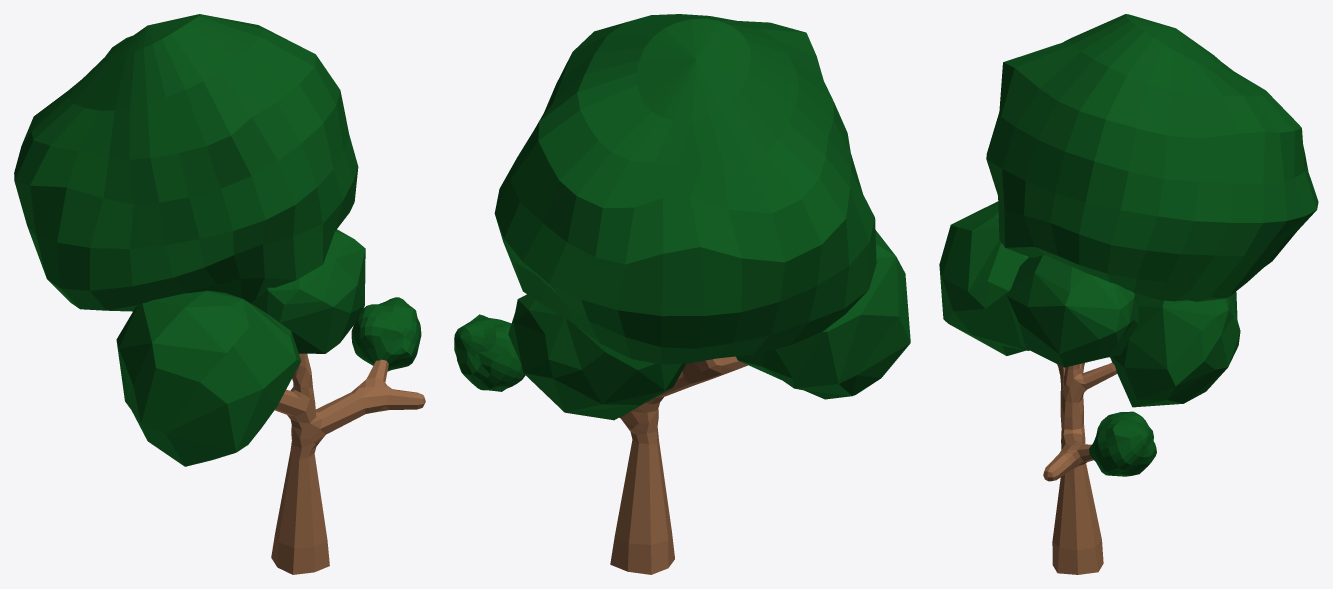
Rendered from tree-summer-complete-27-026.glb.
3 views of the same model, side by side, from view 1: azimuth 30°, elevation 25°; view 2: azimuth 150°, elevation 25°; view 3: azimuth 270°, elevation 25° (orthographic). The views are drawn at different scales.
Visible parts, largest first — view 1: Tree 27_85; view 2: Tree 27_85; view 3: Tree 27_85.
Boxes of the visible parts, x1,y1,x2,y2 form: Tree 27_85: (14, 14, 425, 574); Tree 27_85: (454, 14, 910, 574); Tree 27_85: (939, 14, 1318, 574).
Bounding box in the file's own units: 1.3 × 1.8 × 1.22.
